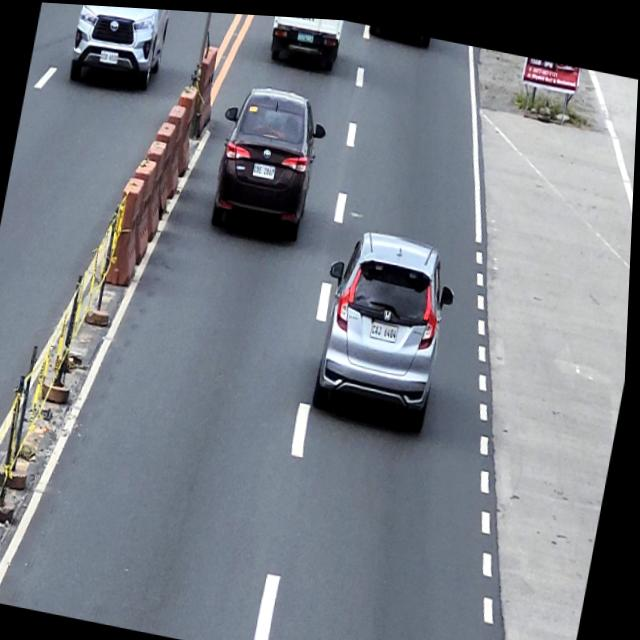Car: (307, 217, 465, 429), (206, 74, 333, 241), (63, 3, 174, 96), (266, 12, 344, 68)
License-Plate: (372, 314, 402, 338), (253, 159, 278, 177), (99, 48, 120, 65), (297, 26, 316, 40)
